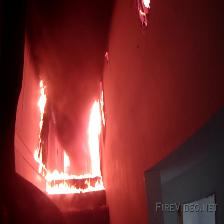fire: (36, 45, 124, 200)
